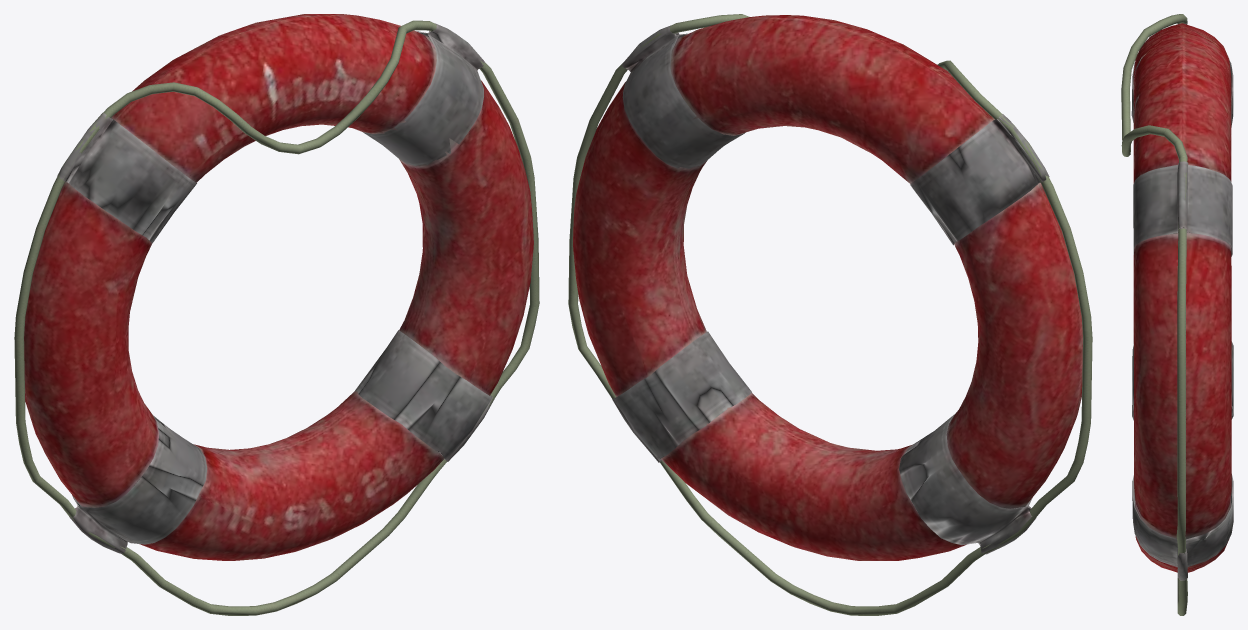
The model's file is lifebuoy.glb.
The picture shows the model from 3 angles, left to right: view 1: azimuth 30°, elevation 25°; view 2: azimuth 150°, elevation 25°; view 3: azimuth 270°, elevation 25°; orthographic projection. The views are drawn at different scales.
Visible parts, largest first — view 1: lifebuoy; view 2: lifebuoy; view 3: lifebuoy.
Boxes of the visible parts, x1,y1,x2,y2 form: lifebuoy: (14,14,539,615); lifebuoy: (568,14,1092,615); lifebuoy: (1121,14,1233,615).
Bounding box in the file's own units: 0.783 × 0.8412 × 0.1548.
1 material, 1 textured.
